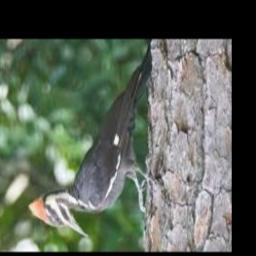Woodpecker: (27, 42, 154, 237)
